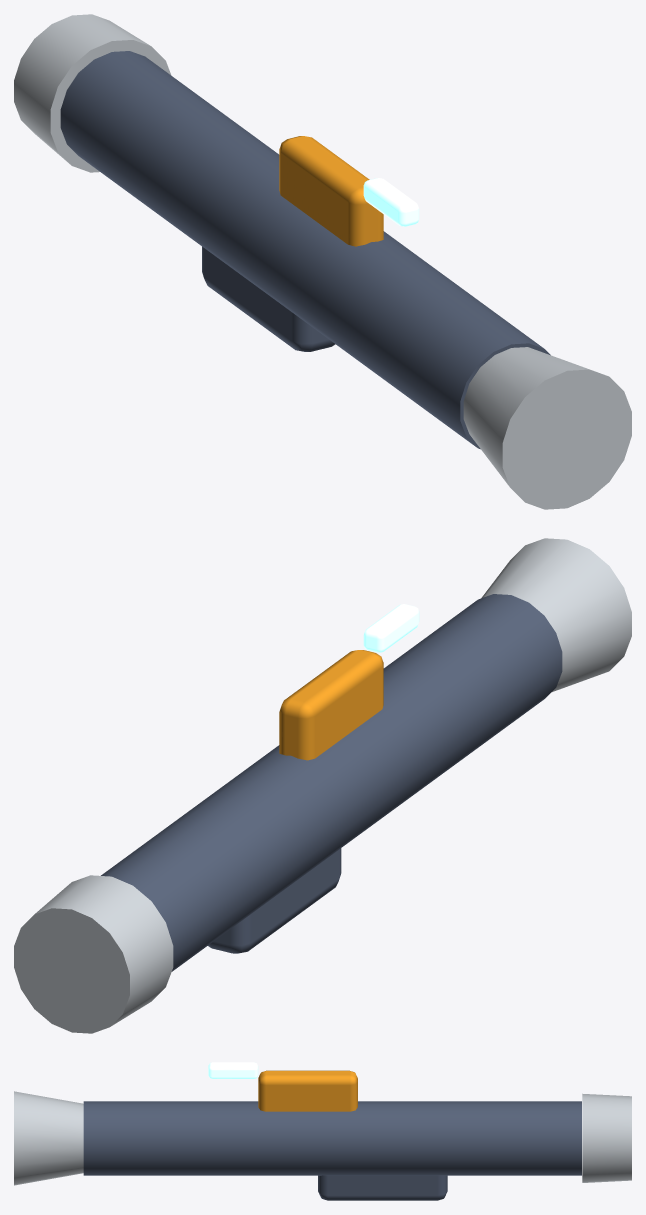
Rendered from hero-shooter-harbour-payload-item-rocket-launcher-8bd26768__27666.glb.
The picture shows the model from 3 angles, top to bottom: view 1: azimuth 30°, elevation 25°; view 2: azimuth 150°, elevation 25°; view 3: azimuth 270°, elevation 25°; orthographic projection. The views are drawn at different scales.
Parts seen in each view (by area): view 1: item-rocket-launcher; view 2: item-rocket-launcher; view 3: item-rocket-launcher.
Part boxes in pixels (bbox=[...]): item-rocket-launcher: bbox=[14, 14, 631, 509]; item-rocket-launcher: bbox=[14, 538, 631, 1033]; item-rocket-launcher: bbox=[14, 1062, 631, 1200].
Bounding box in the file's own units: 0.1871 × 0.295 × 1.24.
